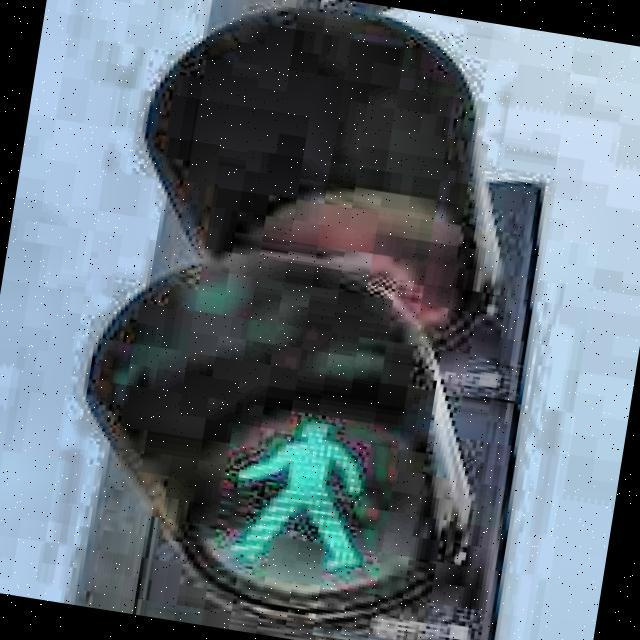green_light: (212, 398, 386, 580)
